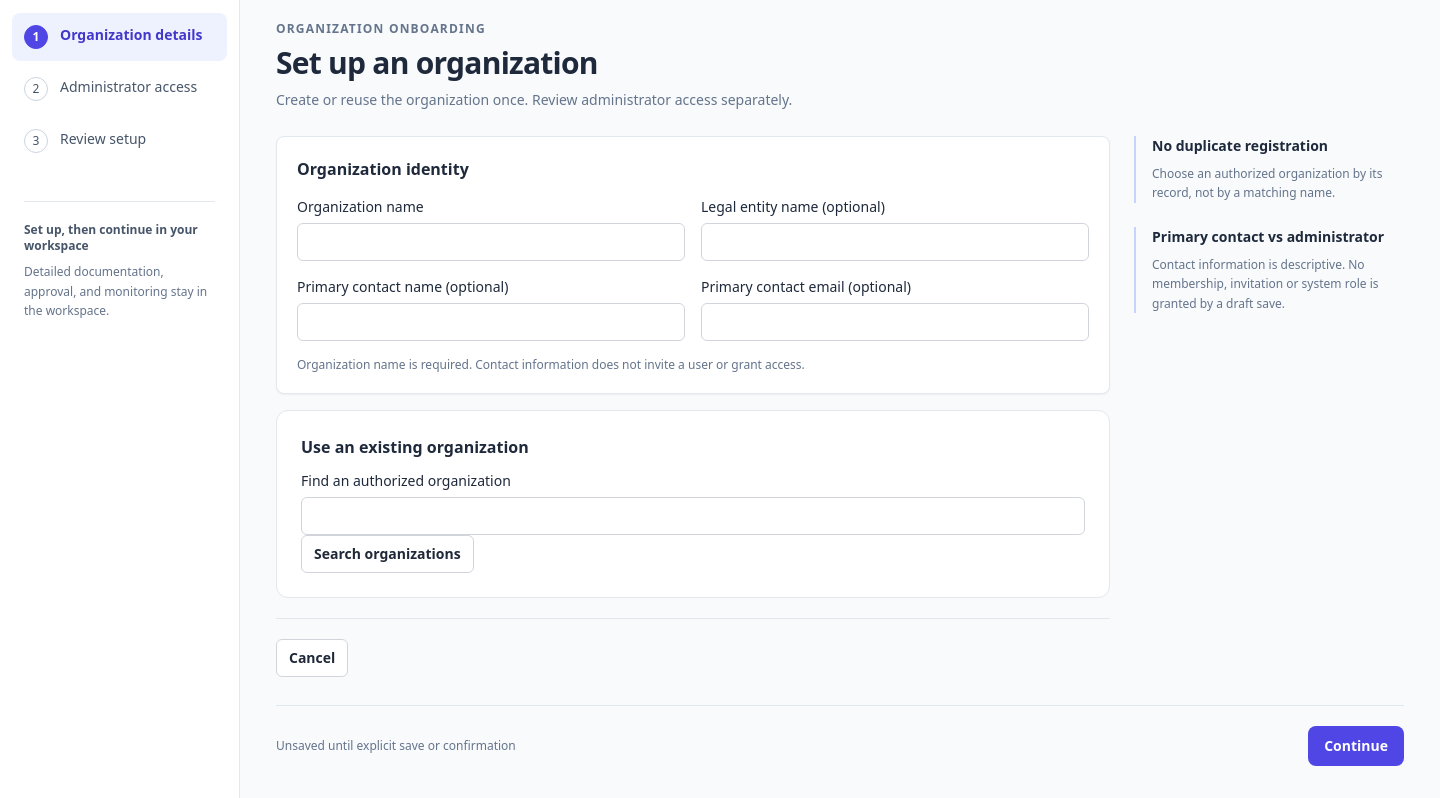
Scenario: CSP Add Organization approved flow › validates only invalid fields and clears errors when corrected
(page scrolled)
Click the button "Continue".
click(1356, 746)  # box [1308, 726, 1404, 766]
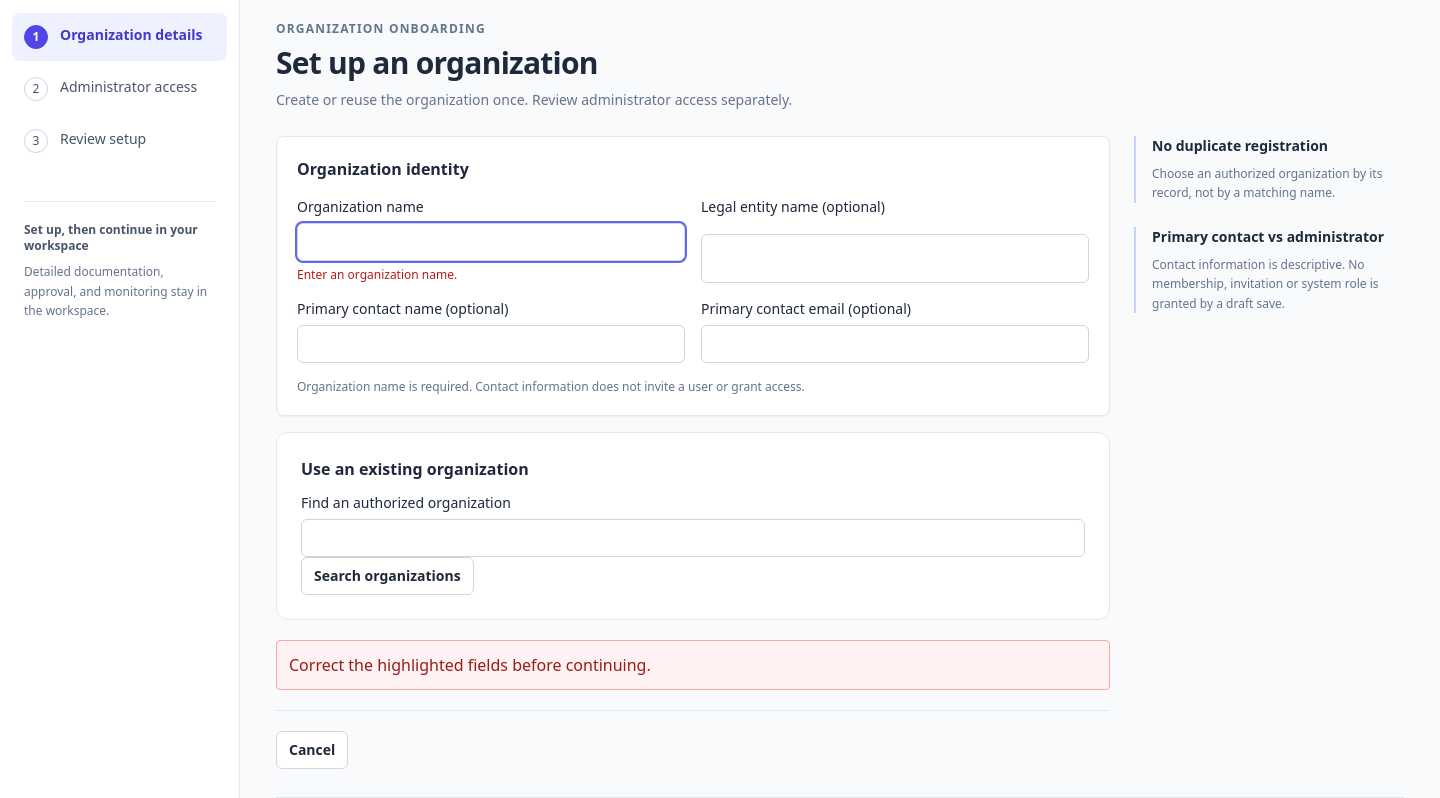
Expected: the text "Enter an organization name." is shown, [297, 266, 457, 283]
Type "Mission Operations" into the field labelled "Organization name".
click(491, 242); type("Mission Operations")  # box [297, 223, 685, 261]
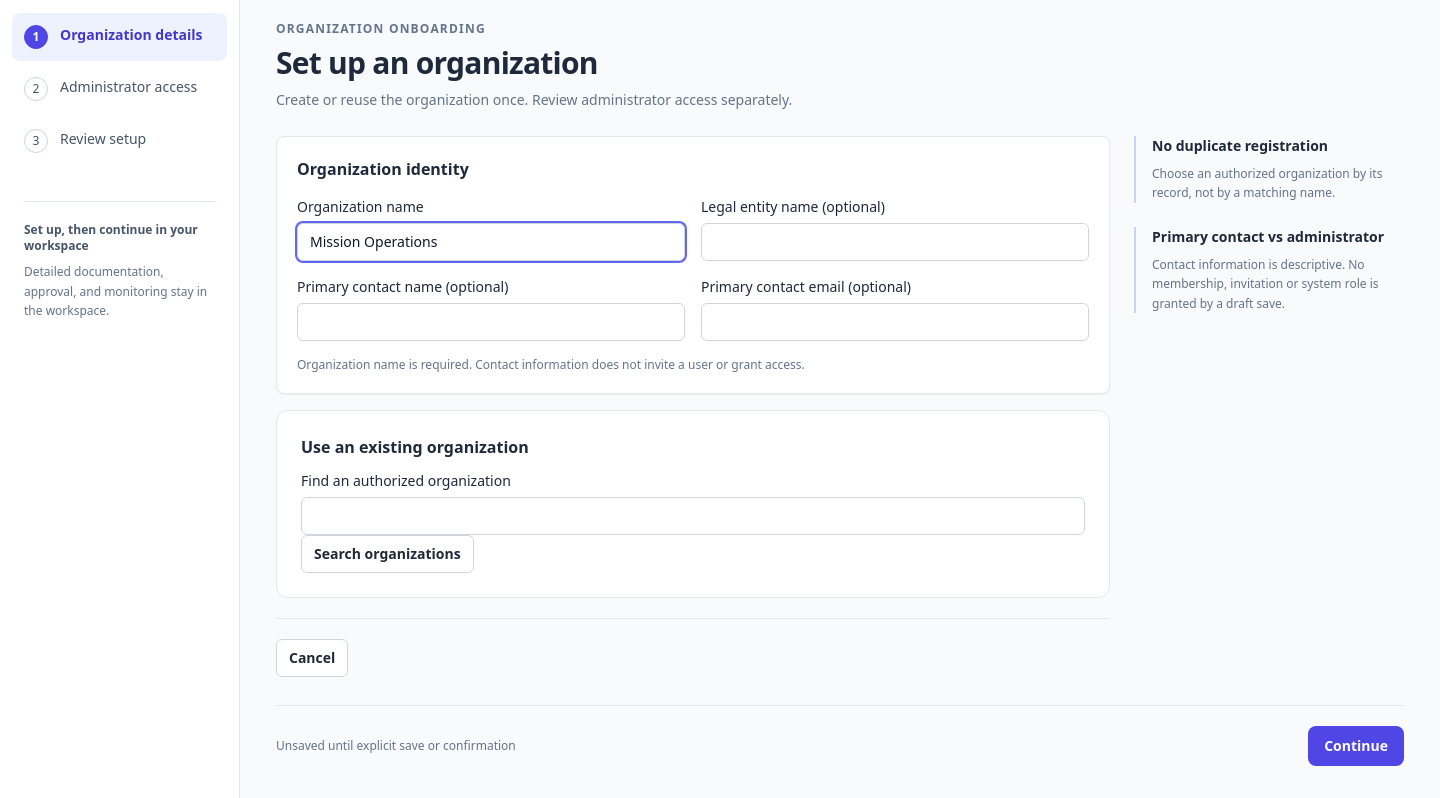
Expected: the text "Enter an organization name." is gone
Type "invalid" into the field labelled "Primary contact email (optional)".
click(895, 322); type("invalid")  # box [701, 303, 1089, 341]
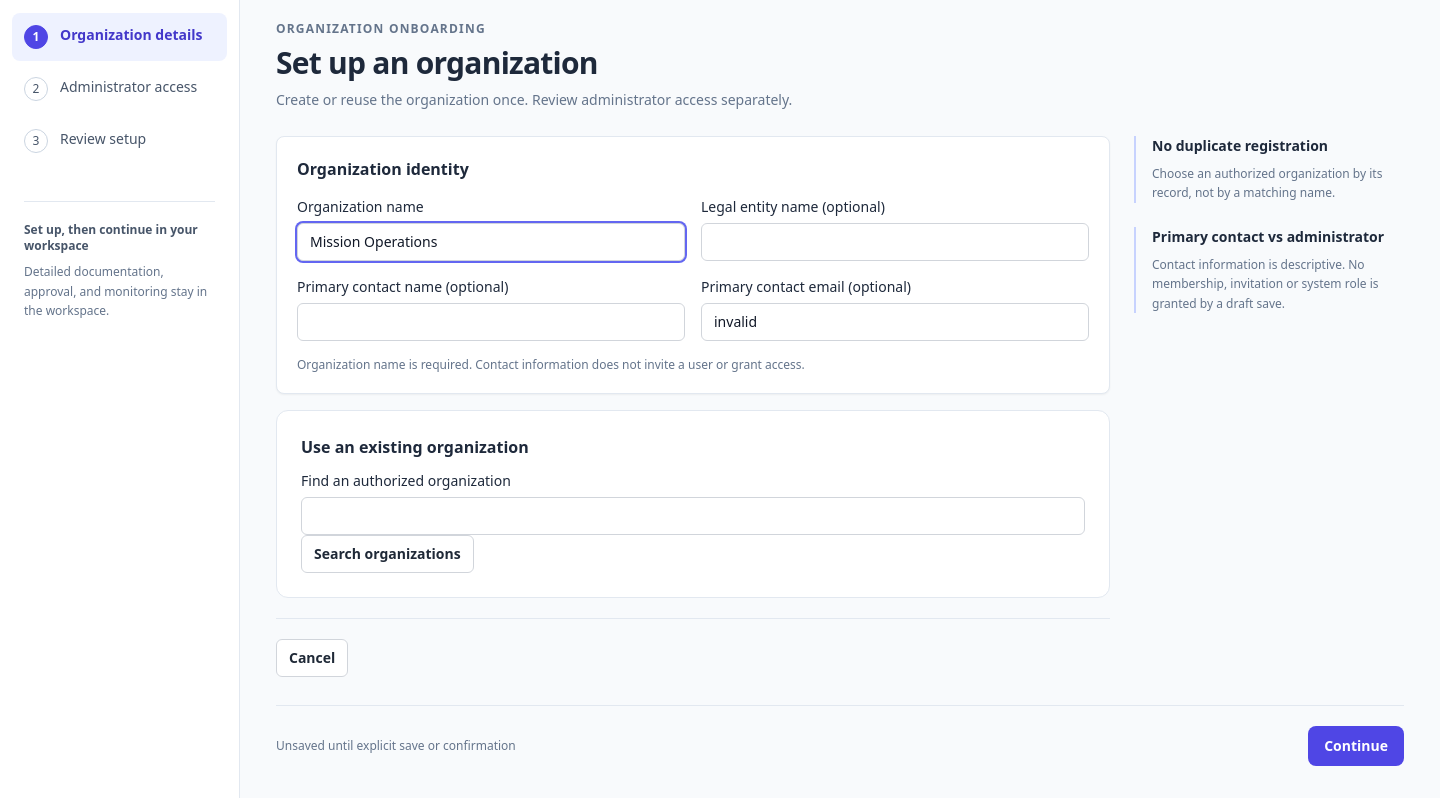
Click the button "Continue".
click(1356, 746)  # box [1308, 726, 1404, 766]
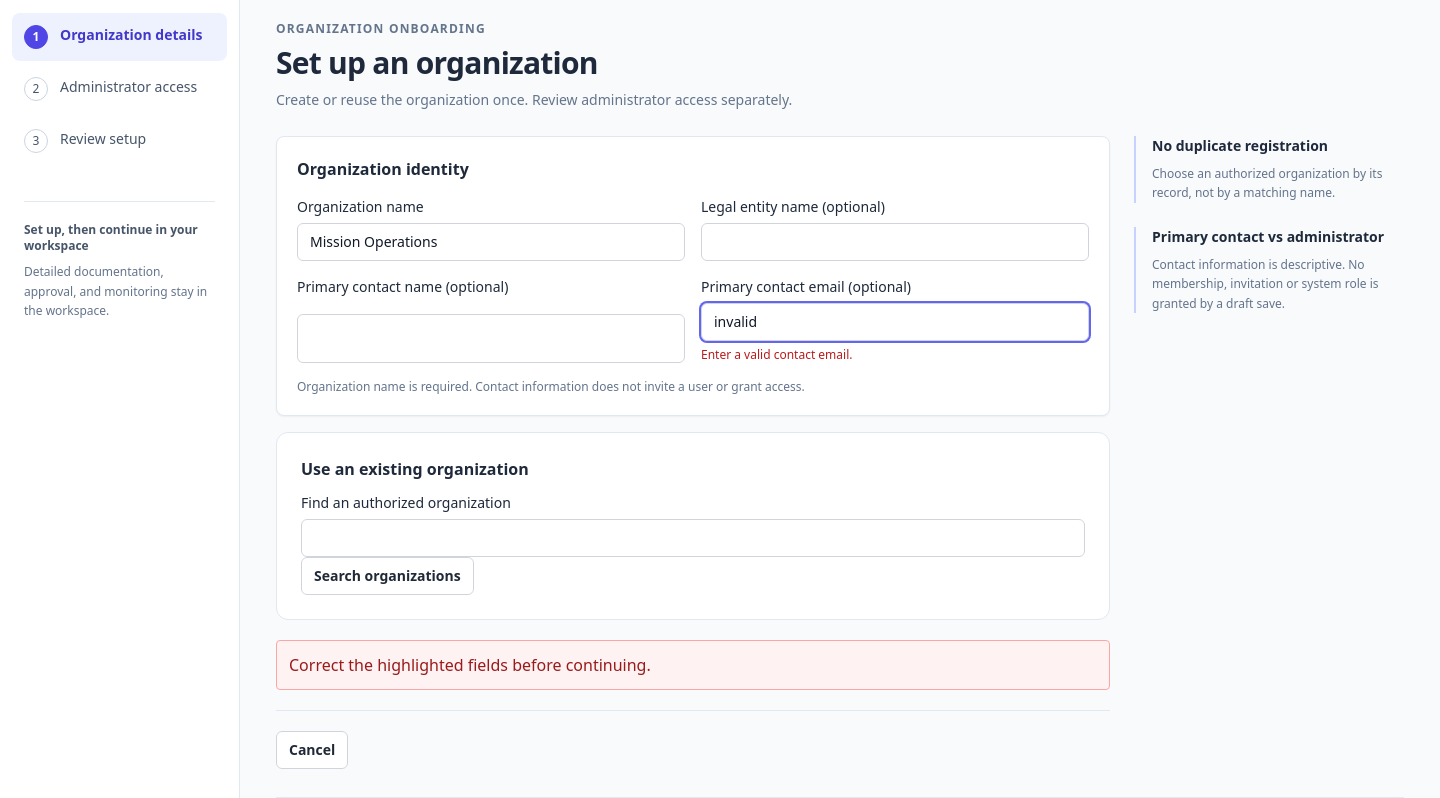
Expected: the text "Enter a valid contact email." is shown, [701, 346, 852, 363]
